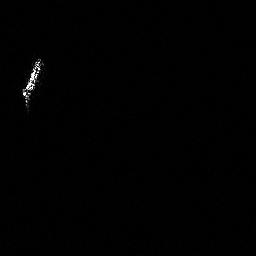ship: (19, 55, 45, 112)
